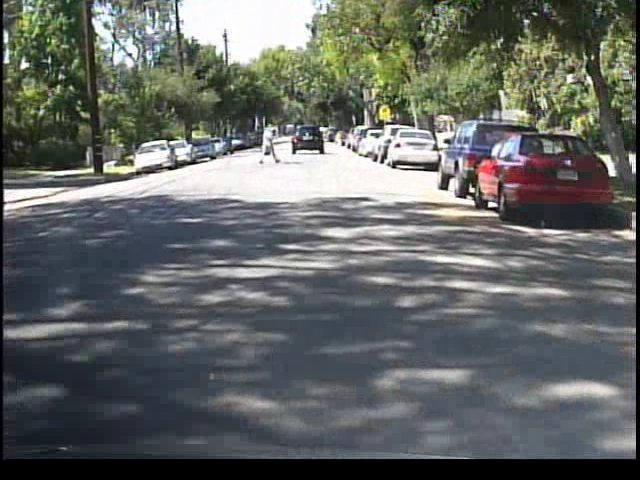person: (257, 113, 282, 161)
